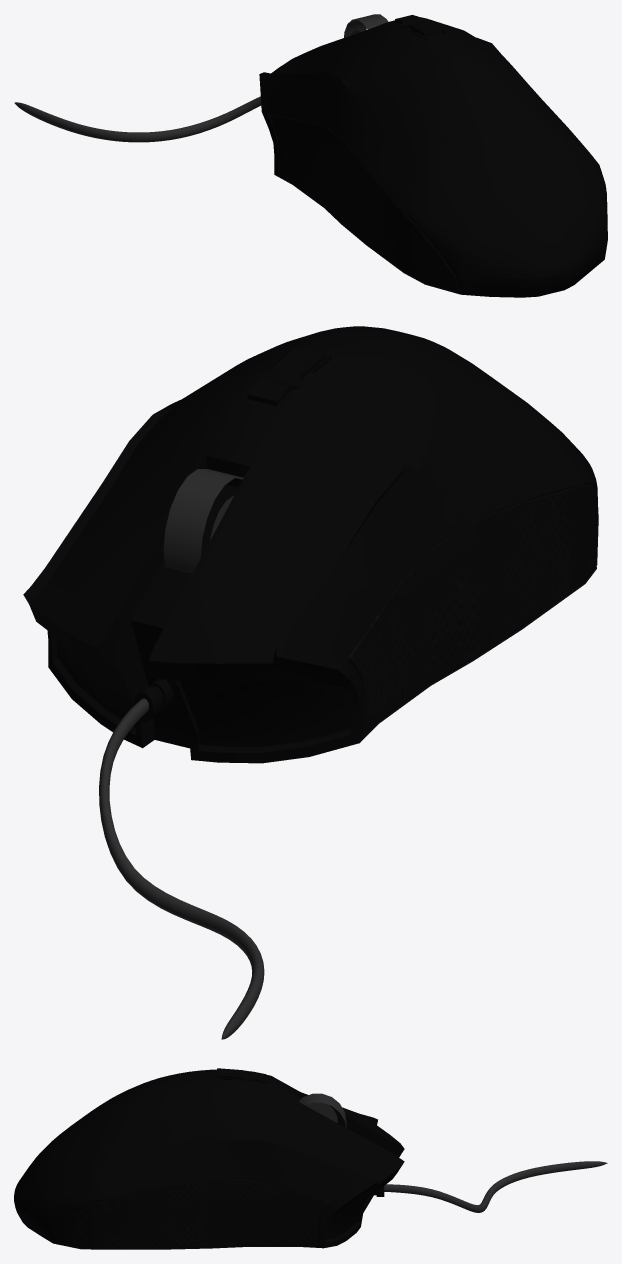
Rendered from mouse-razer-viper-v3-pro_lod1.glb.
The picture shows the model from 3 angles, top to bottom: view 1: azimuth 30°, elevation 25°; view 2: azimuth 150°, elevation 25°; view 3: azimuth 270°, elevation 25°; orthographic projection. The views are drawn at different scales.
Visible parts, largest first — view 1: body; view 2: body; view 3: body.
Boxes of the visible parts, x1,y1,x2,y2 form: body: (14,14,607,297); body: (23,326,598,1039); body: (14,1068,607,1249).
Bounding box in the file's own units: 0.0574 × 0.0399 × 0.1272.
4 materials, 1 textured.
